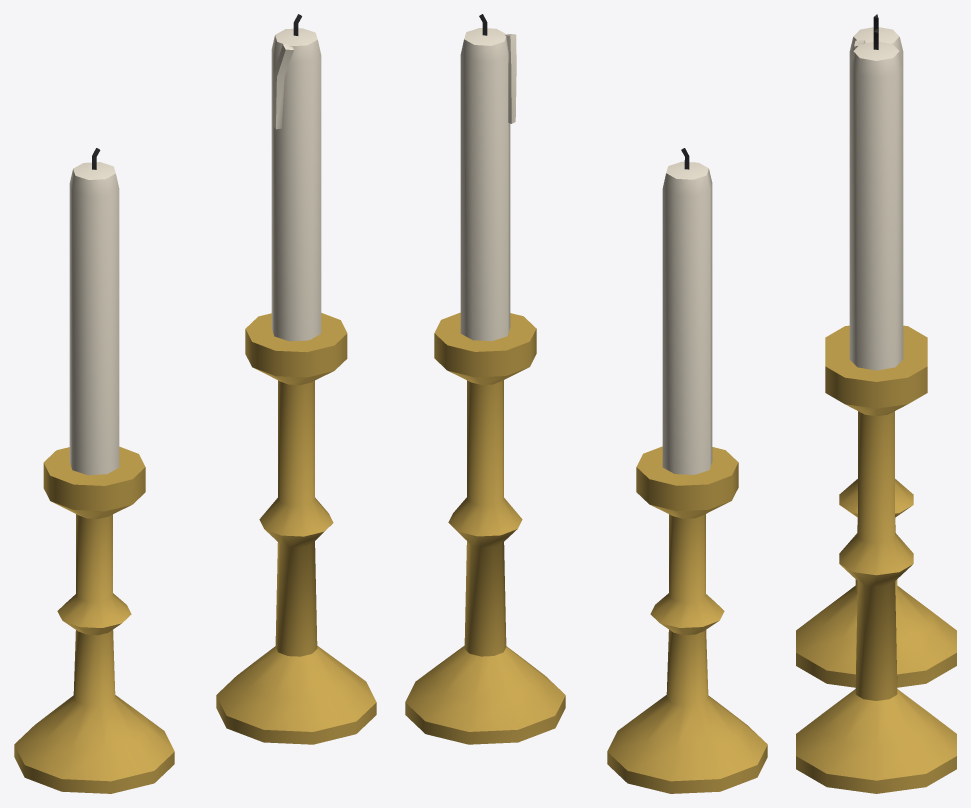
The model's file is candlesticks.glb.
3 views of the same model, side by side, from view 1: azimuth 30°, elevation 25°; view 2: azimuth 150°, elevation 25°; view 3: azimuth 270°, elevation 25° (orthographic). The views are drawn at different scales.
Parts seen in each view (by area): view 1: candlesticks; view 2: candlesticks; view 3: candlesticks.
Part boxes in pixels (x1,y1,x2,y2): candlesticks: (14,14,376,793); candlesticks: (405,14,767,793); candlesticks: (796,14,956,793).
Size of the model in its own units: 0.1692 by 0.3296 by 0.0658.
